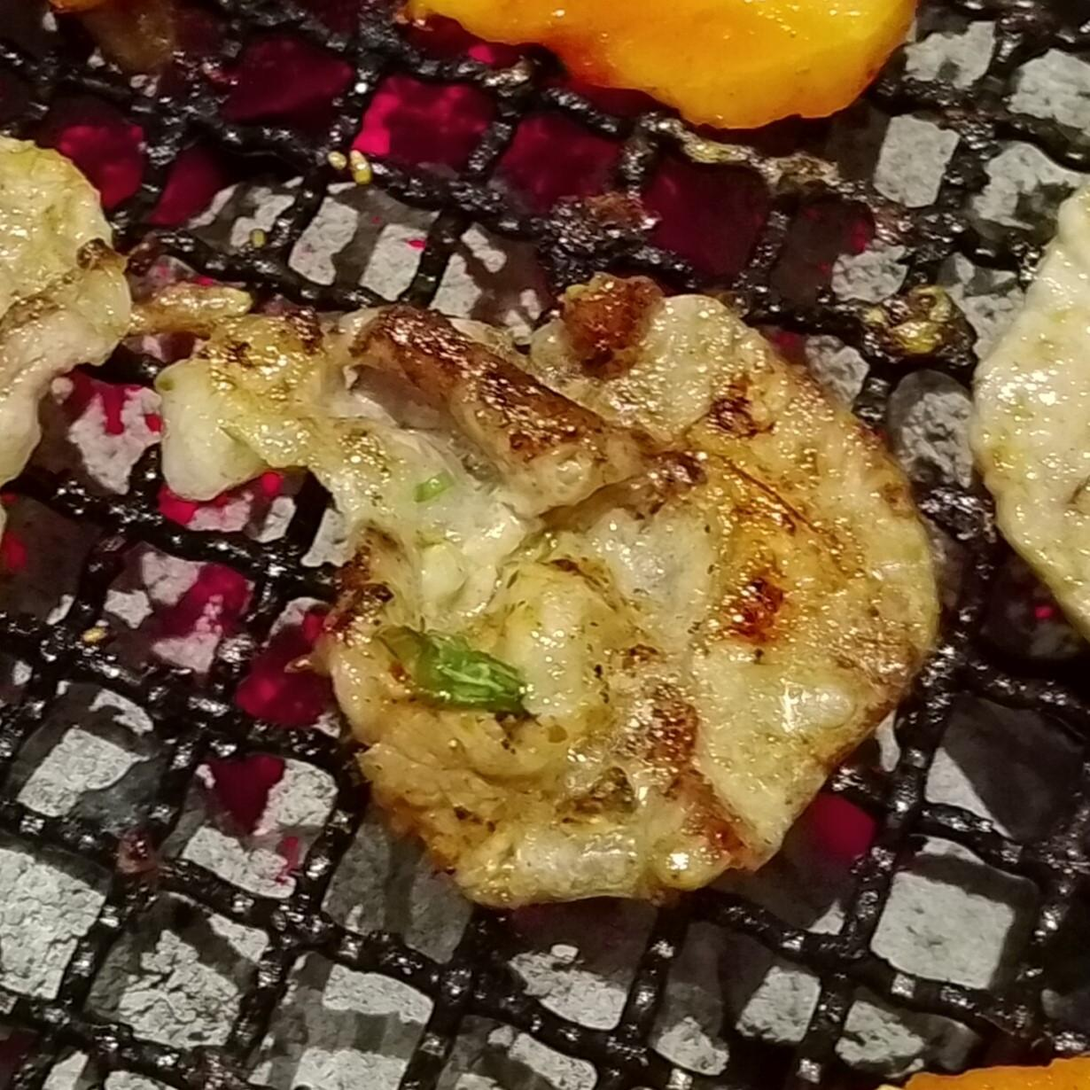Overcooked: (158, 290, 937, 914)
